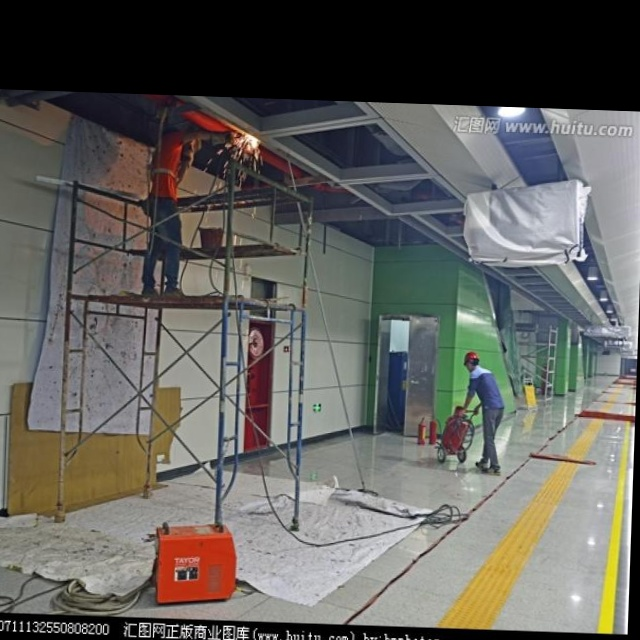Sin_Chaleco: (468, 366, 504, 414)
